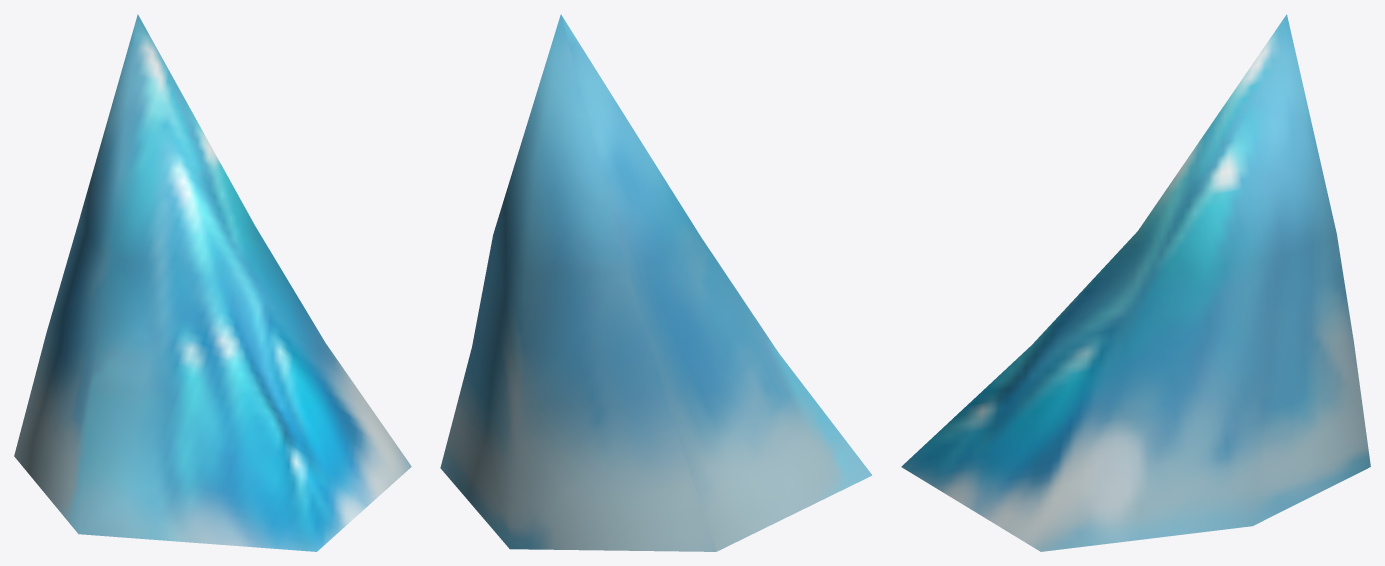
Rendered from BingZui02.FBX.
3 views of the same model, side by side, from view 1: azimuth 30°, elevation 25°; view 2: azimuth 150°, elevation 25°; view 3: azimuth 270°, elevation 25° (orthographic). The views are drawn at different scales.
Visible parts, largest first — view 1: BingZui02; view 2: BingZui02; view 3: BingZui02.
Boxes of the visible parts, left/top/right/bottom form: BingZui02: left=14, top=14, right=411, bottom=551; BingZui02: left=440, top=14, right=872, bottom=551; BingZui02: left=901, top=14, right=1370, bottom=551.
Size of the model in its own units: 77.2 by 94.85 by 89.55.
